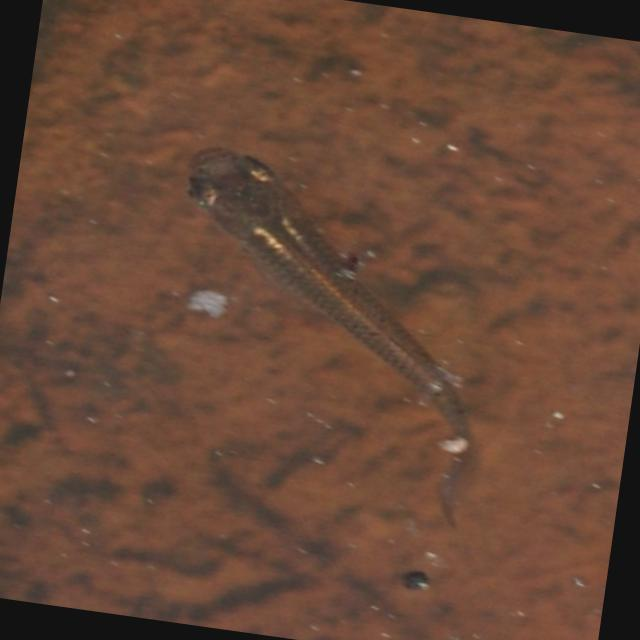Sivrisinek Baligi: (148, 138, 540, 482)
